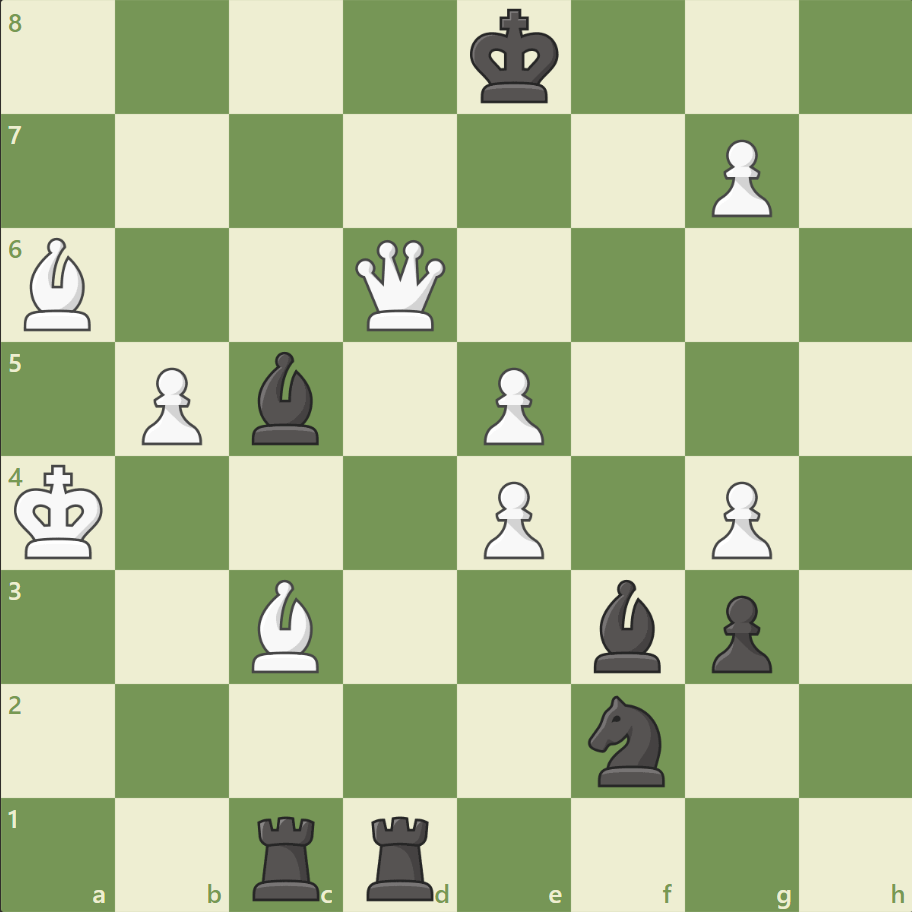B: (17, 233, 101, 336), (244, 574, 328, 676)
K: (11, 458, 111, 566)
P: (701, 132, 776, 223), (133, 359, 208, 450), (474, 359, 549, 450), (474, 473, 549, 564), (701, 473, 776, 564)
Q: (351, 236, 450, 335)
b: (244, 347, 328, 449), (585, 574, 669, 676)
k: (465, 4, 565, 112)
n: (579, 688, 676, 791)
p: (701, 586, 776, 677)
r: (246, 806, 329, 904), (360, 806, 442, 904)
